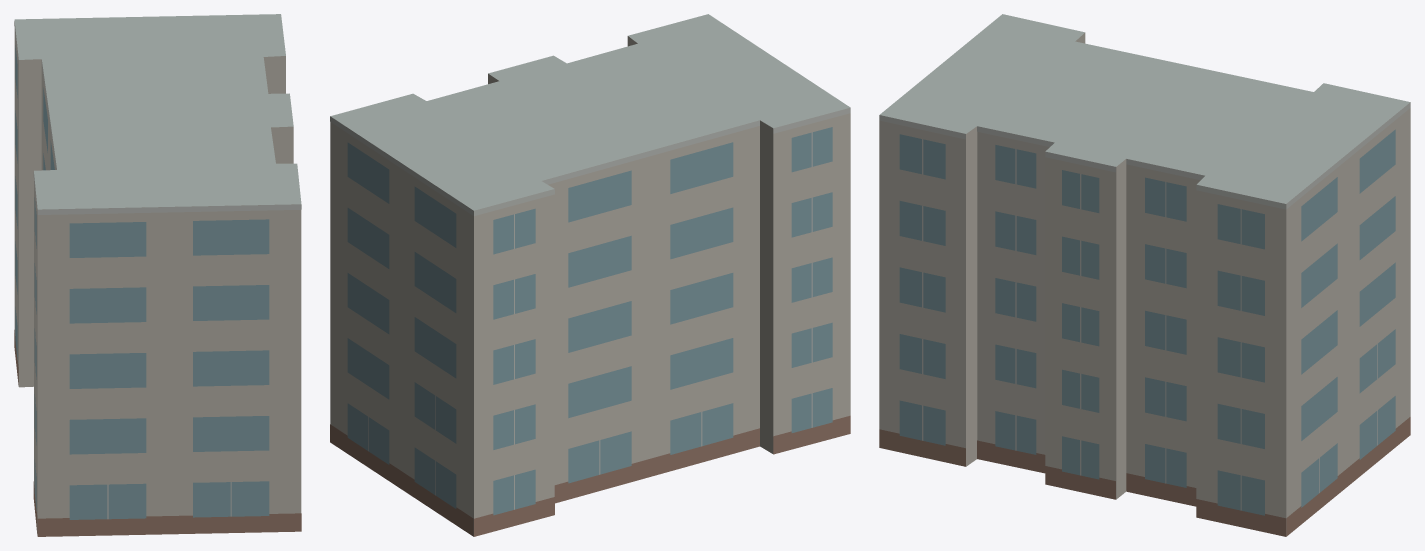
Rendered from survey-upis-32965043.glb.
3 renders of one model, left to right at view 1: azimuth 30°, elevation 25°; view 2: azimuth 150°, elevation 25°; view 3: azimuth 270°, elevation 25°, orthographic. The views are drawn at different scales.
Visible parts, largest first — view 1: survey-upis-32965043.tmp; view 2: survey-upis-32965043.tmp; view 3: survey-upis-32965043.tmp.
Boxes of the visible parts, x1,y1,x2,y2 form: survey-upis-32965043.tmp: (14,14,301,536); survey-upis-32965043.tmp: (330,14,850,536); survey-upis-32965043.tmp: (879,14,1410,536).
Bounding box in the file's own units: 17.64 × 14.4 × 20.84.
